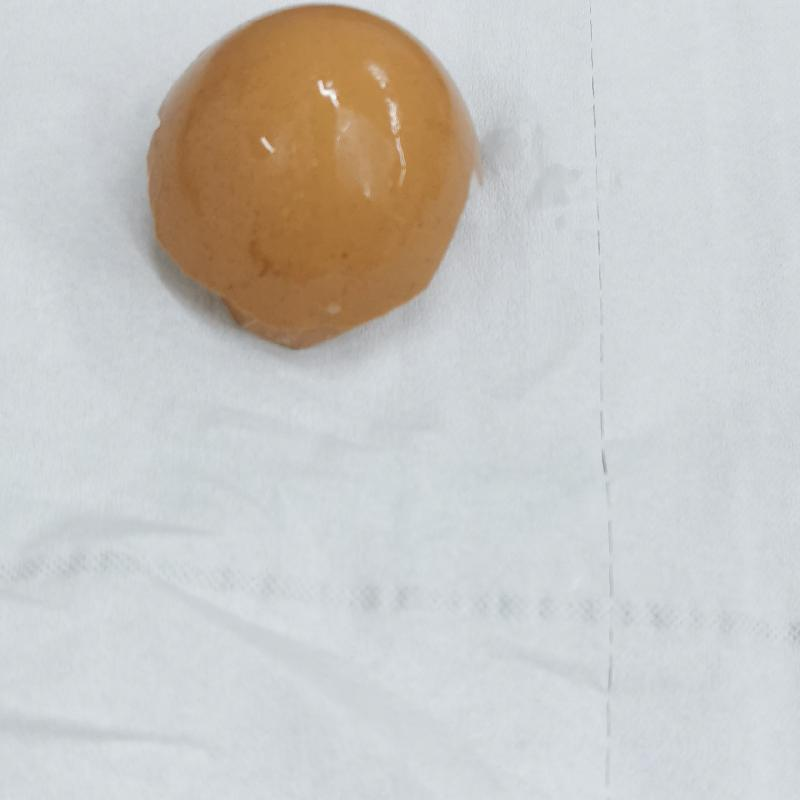eggshell: (144, 8, 475, 348)
